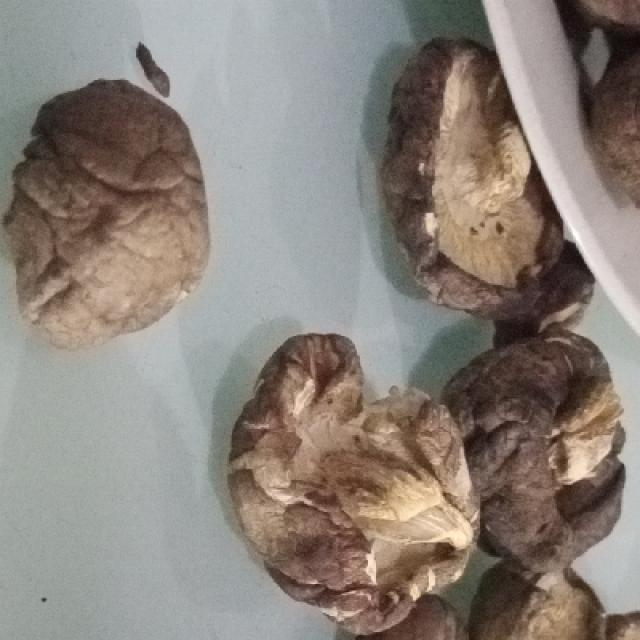Lentinus edodes: (233, 332, 480, 633), (388, 35, 604, 337), (0, 82, 211, 341), (461, 325, 627, 579)
